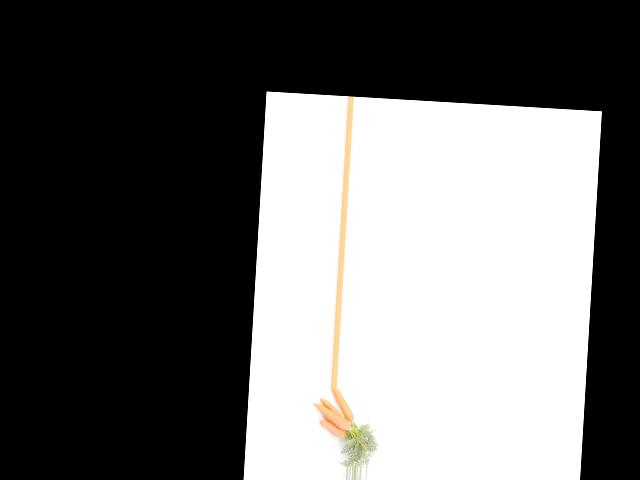carrot: (315, 417, 349, 439)
